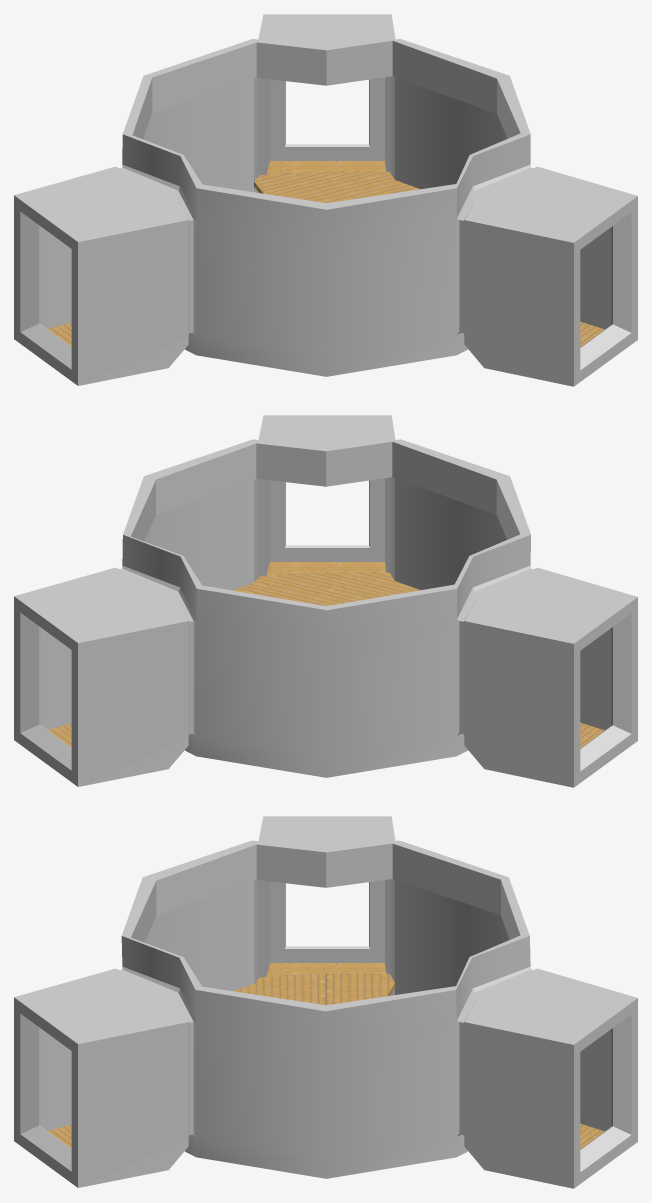
The model's file is BlockChain_Floor_Art.fbx.
3 renders of one model, top to bottom at view 1: azimuth 30°, elevation 25°; view 2: azimuth 150°, elevation 25°; view 3: azimuth 270°, elevation 25°, orthographic.
Parts seen in each view (by area): view 1: BlockChain_Floor_Art; view 2: BlockChain_Floor_Art; view 3: BlockChain_Floor_Art.
Boxes of the visible parts, x1,y1,x2,y2 form: BlockChain_Floor_Art: [14, 14, 637, 386]; BlockChain_Floor_Art: [14, 415, 637, 787]; BlockChain_Floor_Art: [14, 816, 637, 1188].
Bounding box in the file's own units: 1329 × 473 × 1533.
